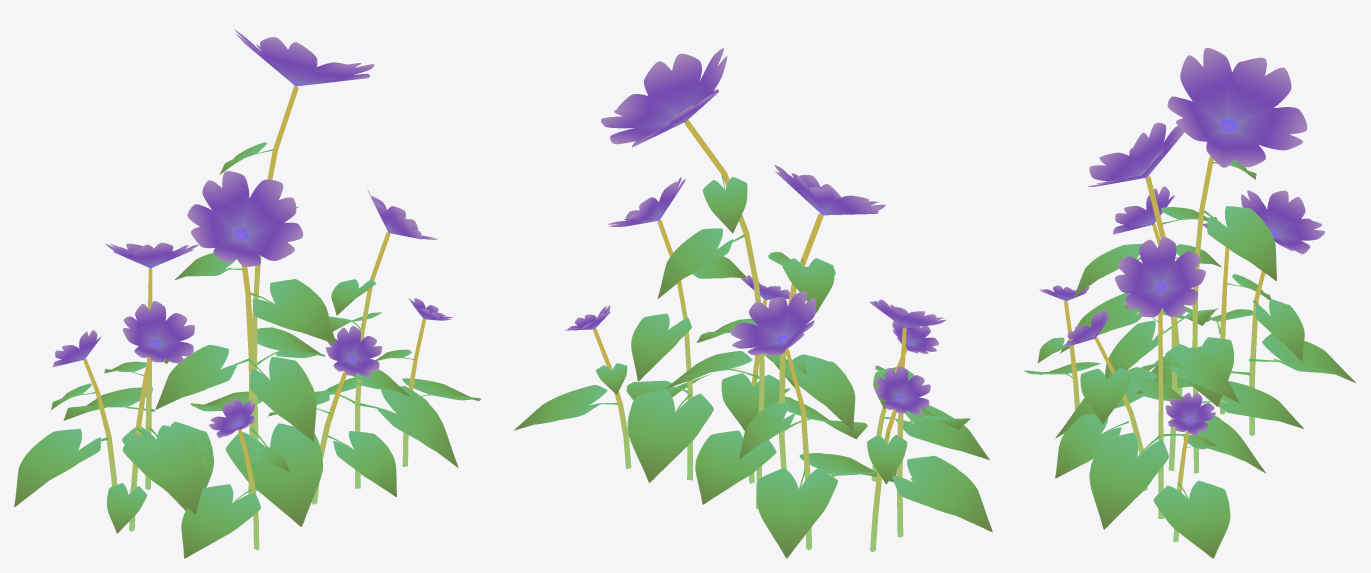
File: SM_Env_Flower_F1_1.fbx
The picture shows the model from 3 angles, left to right: view 1: azimuth 30°, elevation 25°; view 2: azimuth 150°, elevation 25°; view 3: azimuth 270°, elevation 25°; orthographic projection. The views are drawn at different scales.
Parts seen in each view (by area): view 1: Env_Flower_F1_1; view 2: Env_Flower_F1_1; view 3: Env_Flower_F1_1.
Part boxes in pixels (x1=…): Env_Flower_F1_1: x1=14, y1=29, x2=481, y2=558; Env_Flower_F1_1: x1=514, y1=48, x2=992, y2=558; Env_Flower_F1_1: x1=1024, y1=47, x2=1356, y2=558.
Size of the model in its own units: 4.54 by 4.28 by 2.86.
